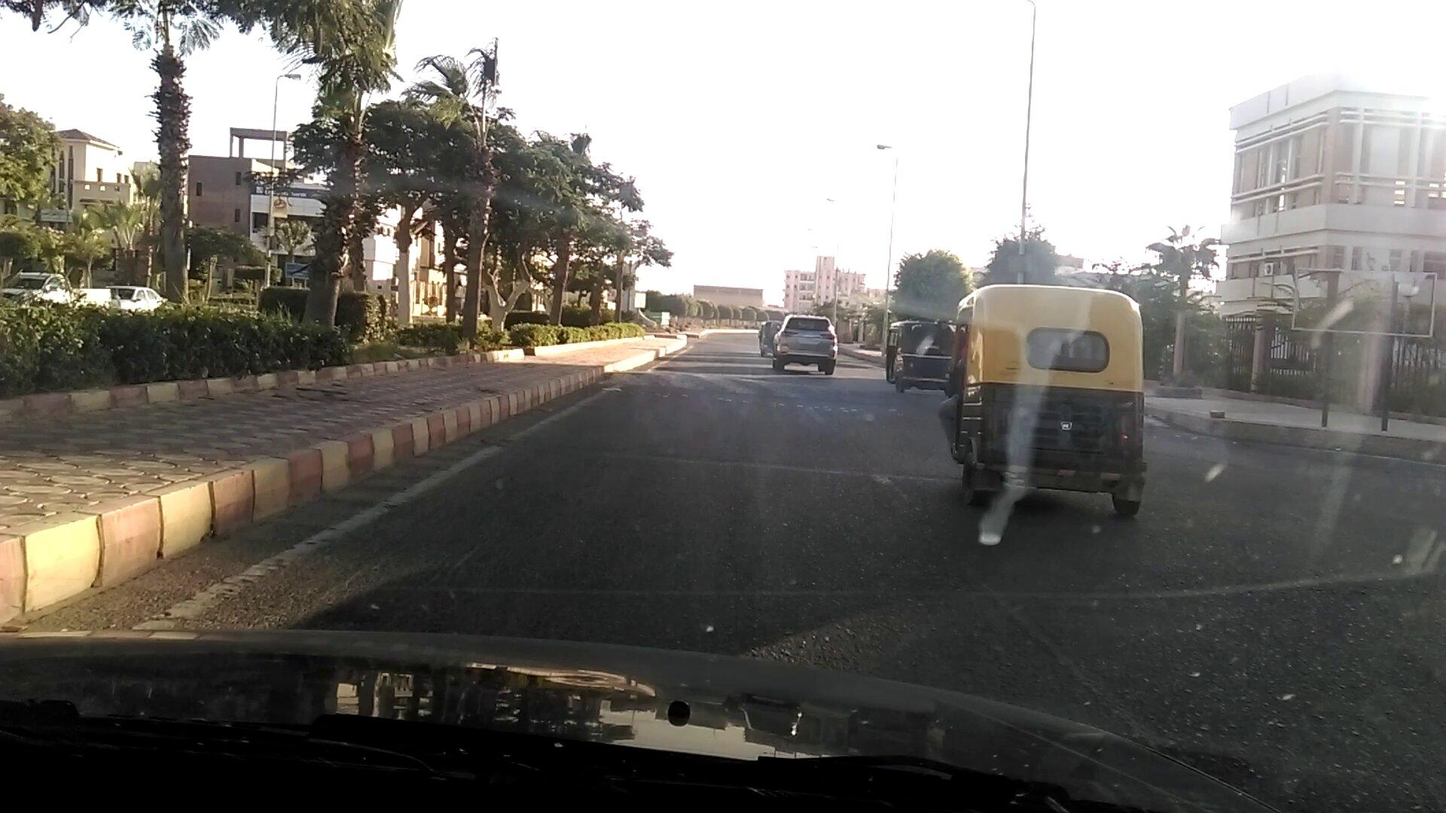Bump: (603, 369, 943, 412)
